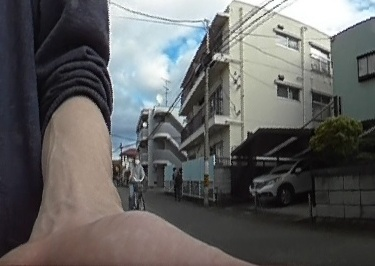person: (127, 152, 143, 209)
